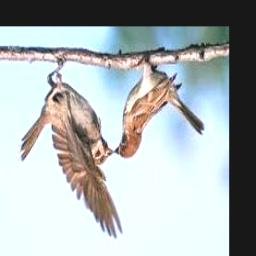Sparrow: (20, 60, 123, 237), (116, 56, 205, 159)
